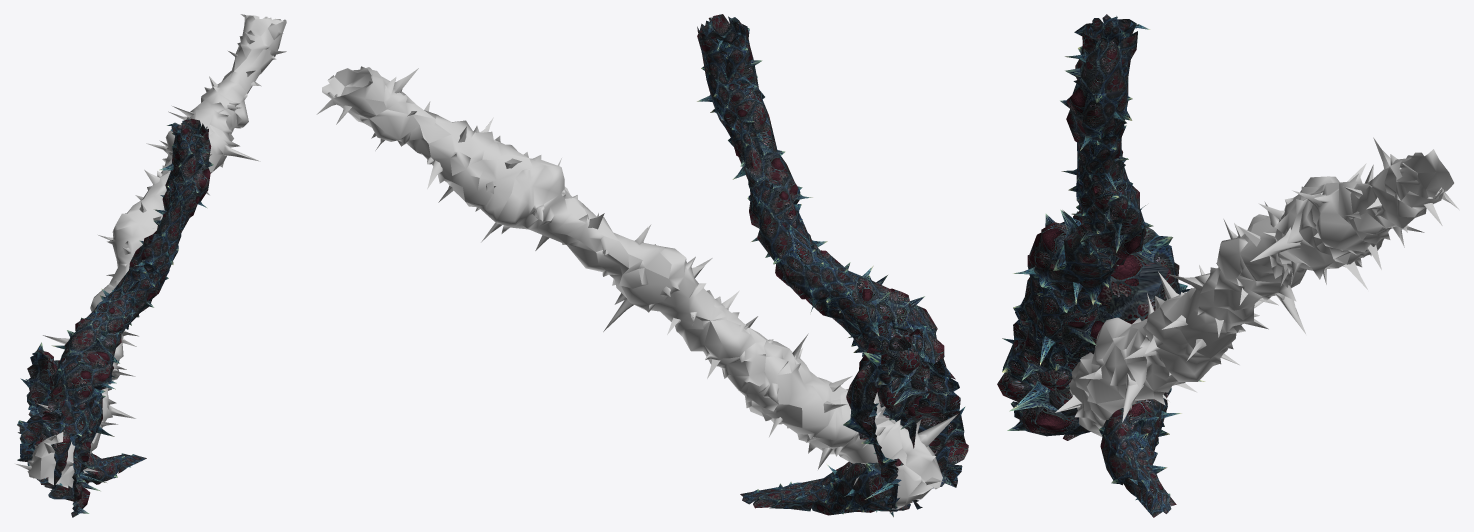
The model's file is 02_Makaijyua_01.fbx.
3 renders of one model, left to right at view 1: azimuth 30°, elevation 25°; view 2: azimuth 150°, elevation 25°; view 3: azimuth 270°, elevation 25°, orthographic. The views are drawn at different scales.
Visible parts, largest first — view 1: LODGroup_3_MainMesh_1_SubMesh_3, LODGroup_3_MainMesh_1_SubMesh_1, LODGroup_3_MainMesh_1_SubMesh_2; view 2: LODGroup_3_MainMesh_1_SubMesh_3, LODGroup_3_MainMesh_1_SubMesh_2, LODGroup_3_MainMesh_1_SubMesh_1; view 3: LODGroup_3_MainMesh_1_SubMesh_3, LODGroup_3_MainMesh_1_SubMesh_1, LODGroup_3_MainMesh_1_SubMesh_2.
Part boxes in pixels (<box>): LODGroup_3_MainMesh_1_SubMesh_3: <box>16,14,286,487</box>; LODGroup_3_MainMesh_1_SubMesh_1: <box>17,118,211,517</box>; LODGroup_3_MainMesh_1_SubMesh_2: <box>17,123,213,499</box>; LODGroup_3_MainMesh_1_SubMesh_3: <box>316,66,957,513</box>; LODGroup_3_MainMesh_1_SubMesh_2: <box>701,17,965,515</box>; LODGroup_3_MainMesh_1_SubMesh_1: <box>697,14,968,517</box>; LODGroup_3_MainMesh_1_SubMesh_3: <box>1055,137,1459,436</box>; LODGroup_3_MainMesh_1_SubMesh_1: <box>997,22,1205,506</box>; LODGroup_3_MainMesh_1_SubMesh_2: <box>1002,14,1180,517</box>.
Bounding box in the file's own units: 1561 × 1380 × 1116.
